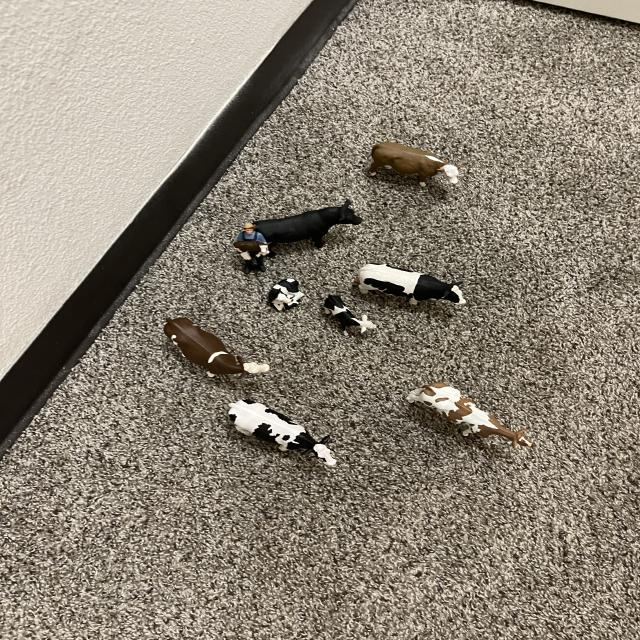cow: (404, 369, 536, 469), (153, 310, 271, 401), (221, 392, 345, 477), (251, 198, 366, 259), (353, 259, 470, 317), (365, 137, 464, 197), (316, 288, 377, 347), (261, 274, 308, 318), (233, 240, 270, 260)
person: (236, 220, 274, 254)
